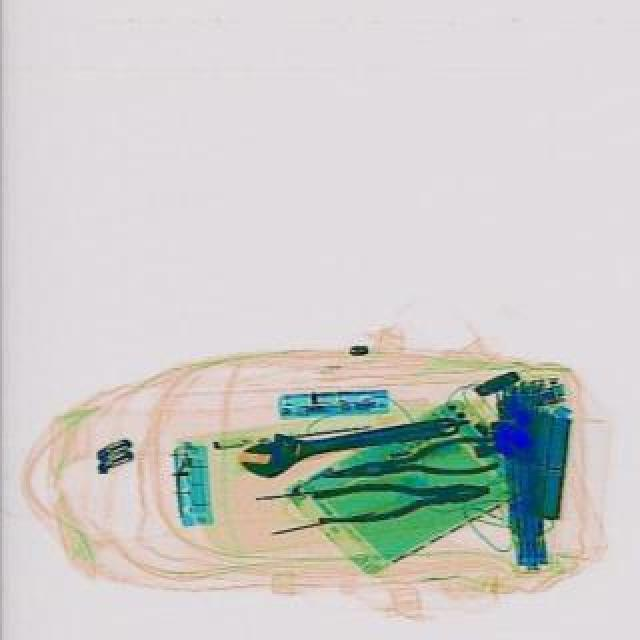scissors: (236, 400, 462, 480)
wrench: (316, 430, 500, 494), (308, 468, 492, 526)
